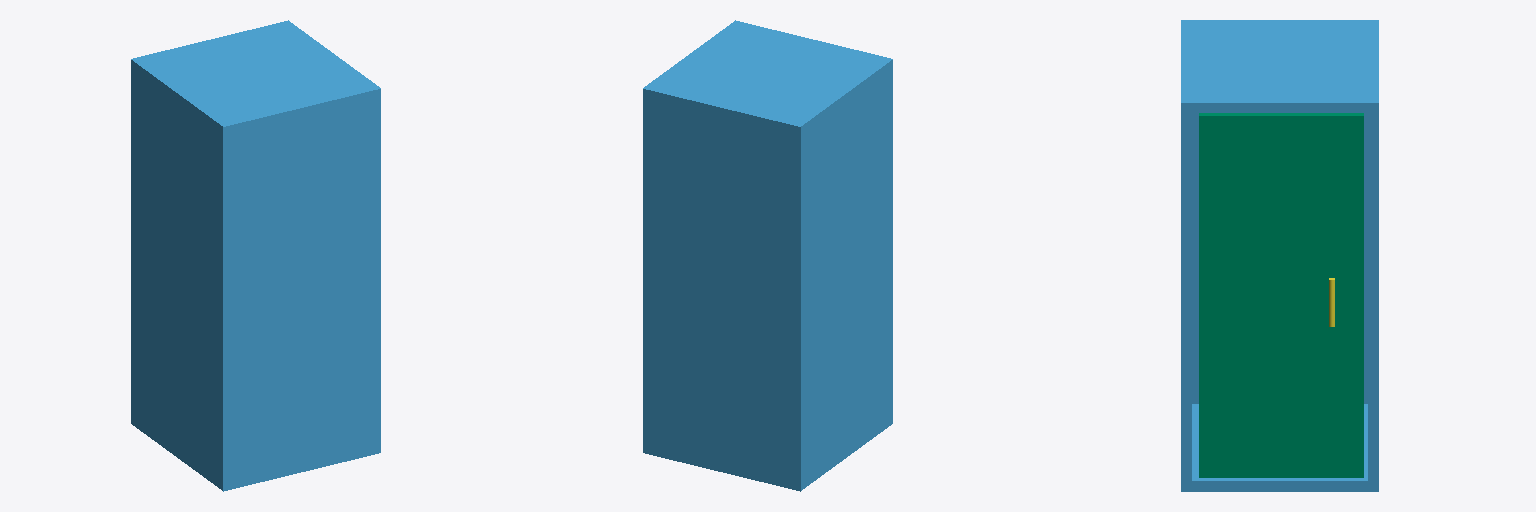
The robot description file, URDF, robot "my_cabinet":
<?xml version="1.0" ?>
<robot name="my_cabinet">
	<link name="world"/>
	<joint name="virtual_joint" type="fixed">
		<parent link="world"/>
		<child link="base_cabinet_link"/>
		<origin xyz="0.0 0.0 0.0" rpy="0.0 0.0 0.0"/>
	</joint>
	<link name="base_cabinet_link">
		<visual>
			<origin xyz="0.0 -0.0025 -0.3215849093158146" rpy="0.0 0.0 0.0"/>
			<geometry>
				<box size="0.3 0.30579102712133666 0.018"/>
			</geometry>
		</visual>
		<collision name="base_cabinet_link_collision_0">
			<origin xyz="0.0 -0.0025 -0.3215849093158146" rpy="0.0 0.0 0.0"/>
			<geometry>
				<box size="0.3 0.30579102712133666 0.018"/>
			</geometry>
		</collision>
		<visual>
			<origin xyz="0.0 0.14139551356066835 0.0" rpy="0.0 0.0 0.0"/>
			<geometry>
				<box size="0.3 0.018 0.6611698186316293"/>
			</geometry>
		</visual>
		<collision name="base_cabinet_link_collision_1">
			<origin xyz="0.0 0.14139551356066835 0.0" rpy="0.0 0.0 0.0"/>
			<geometry>
				<box size="0.3 0.018 0.6611698186316293"/>
			</geometry>
		</collision>
		<visual>
			<origin xyz="0.0 -0.14639551356066835 0.0" rpy="0.0 0.0 0.0"/>
			<geometry>
				<box size="0.3 0.018 0.6611698186316293"/>
			</geometry>
		</visual>
		<collision name="base_cabinet_link_collision_2">
			<origin xyz="0.0 -0.14639551356066835 0.0" rpy="0.0 0.0 0.0"/>
			<geometry>
				<box size="0.3 0.018 0.6611698186316293"/>
			</geometry>
		</collision>
		<visual>
			<origin xyz="0.0 -0.0025 0.3215849093158146" rpy="0.0 0.0 0.0"/>
			<geometry>
				<box size="0.3 0.30579102712133666 0.018"/>
			</geometry>
		</visual>
		<collision name="base_cabinet_link_collision_3">
			<origin xyz="0.0 -0.0025 0.3215849093158146" rpy="0.0 0.0 0.0"/>
			<geometry>
				<box size="0.3 0.30579102712133666 0.018"/>
			</geometry>
		</collision>
		<visual>
			<origin xyz="-0.141 -0.0025 0.0" rpy="0.0 0.0 0.0"/>
			<geometry>
				<box size="0.018 0.30579102712133666 0.6611698186316293"/>
			</geometry>
		</visual>
		<collision name="base_cabinet_link_collision_4">
			<origin xyz="-0.141 -0.0025 0.0" rpy="0.0 0.0 0.0"/>
			<geometry>
				<box size="0.018 0.30579102712133666 0.6611698186316293"/>
			</geometry>
		</collision>
		<inertial>
			<mass value="0.200000"/>
			<inertia ixx="0.008844" ixy="0.0" ixz="0.0" iyy="0.008786" iyz="0.0" izz="0.003058"/>
		</inertial>
	</link>
	<link name="door_link">
		<visual>
			<origin xyz="0.0 -0.12739551356066833 0.0"/>
			<geometry>
				<box size="0.018 0.25479102712133667 0.6151698186316292"/>
			</geometry>
		</visual>
		<collision name="door_link_collision">
			<origin xyz="0.0 -0.12739551356066833 0.0"/>
			<geometry>
				<box size="0.018 0.25479102712133667 0.6151698186316292"/>
			</geometry>
		</collision>
		<inertial>
			<mass value="0.200000"/>
			<inertia ixx="0.007389" ixy="0.0" ixz="0.0" iyy="0.006313" iyz="0.0" izz="0.001087"/>
		</inertial>
	</link>
	<joint name="door_joint" type="revolute">
		<origin xyz="0.141 -0.12739551356066833 0.0" rpy="0.000000 -0.000000 3.141593"/>
		<axis xyz="0 0 1"/>
		<parent link="base_cabinet_link"/>
		<child link="door_link"/>
		<limit effort="50" lower="-1.658062789394613" upper="0" velocity="10"/>
		<dynamics friction="3.5" damping="3.5"/>
	</joint>
	<link name="handle_link">
		<visual>
			<origin xyz="0.0 0.0 0.0" rpy="0.0 0.0 0.0"/>
			<geometry>
				<cylinder length="0.08" radius="0.005"/>
			</geometry>
		</visual>
		<collision name="handle_link_collision_0">
			<origin xyz="0.0 0.0 0.0" rpy="0.0 0.0 0.0"/>
			<geometry>
				<cylinder length="0.08" radius="0.005"/>
			</geometry>
		</collision>
		<visual>
			<origin xyz="-0.01 0.0 0.02" rpy="0.0 1.5707963267948966 0.0"/>
			<geometry>
				<cylinder length="0.02" radius="0.003"/>
			</geometry>
		</visual>
		<collision name="handle_link_collision_1">
			<origin xyz="-0.01 0.0 0.02" rpy="0.0 1.5707963267948966 0.0"/>
			<geometry>
				<cylinder length="0.01" radius="0.003"/>
			</geometry>
		</collision>
		<visual>
			<origin xyz="-0.01 0.0 -0.02" rpy="0.0 1.5707963267948966 0.0"/>
			<geometry>
				<cylinder length="0.02" radius="0.003"/>
			</geometry>
		</visual>
		<collision name="handle_link_collision_2">
			<origin xyz="-0.01 0.0 -0.02" rpy="0.0 1.5707963267948966 0.0"/>
			<geometry>
				<cylinder length="0.02" radius="0.003"/>
			</geometry>
		</collision>
		<inertial>
			<mass value="0.050000"/>
			<inertia ixx="0.000027" ixy="0.0" ixz="0.0" iyy="0.000029" iyz="0.0" izz="0.000003"/>
		</inertial>
	</link>
	<joint name="handle_joint" type="fixed">
		<origin xyz="-0.028999999999999998 -0.20479102712133668 0.0" rpy="0.000000 -0.000000 3.141593"/>
		<parent link="door_link"/>
		<child link="handle_link"/>
	</joint>
	<gazebo reference="base_cabinet_link">
		<sensor name="main_sensor" type="contact">
			<selfCollide>true</selfCollide>
			<alwaysOn>true</alwaysOn>
			<updateRate>5.0</updateRate>
			<material>Gazebo/Red</material>
			<contact>
				<collision>base_cabinet_link_collision_0_collision</collision>
				<collision>base_cabinet_link_collision_1_collision</collision>
				<collision>base_cabinet_link_collision_2_collision</collision>
				<collision>base_cabinet_link_collision_3_collision</collision>
				<collision>base_cabinet_link_collision_4_collision</collision>
			</contact>
			<plugin name="gazebo_ros_bumper_controller" filename="libgazebo_ros_bumper.so">
				<bumperTopicName>/contact</bumperTopicName>
				<frameName>world</frameName>
			</plugin>
		</sensor>
	</gazebo>
	<gazebo reference="door_link">
		<sensor name="main_sensor" type="contact">
			<selfCollide>true</selfCollide>
			<alwaysOn>true</alwaysOn>
			<updateRate>5.0</updateRate>
			<material>Gazebo/Red</material>
			<contact>
				<collision>door_link_collision_collision</collision>
			</contact>
			<plugin name="gazebo_ros_bumper_controller" filename="libgazebo_ros_bumper.so">
				<bumperTopicName>/contact_door</bumperTopicName>
				<frameName>contact_door</frameName>
			</plugin>
		</sensor>
	</gazebo>
	<gazebo reference="door_link">
		<mu>3.0</mu>
		<mu2>3.0</mu2>
		<kp>10000000</kp>
		<kd>100</kd>
	</gazebo>
</robot>

--- Render facts (derived) ---
3 views of the same robot in one strip: view 1: azimuth 30°, elevation 25°; view 2: azimuth 150°, elevation 25°; view 3: azimuth 270°, elevation 25° (orthographic).
Model my_cabinet with 4 links and 3 joints (1 revolute, 2 fixed), rooted at world, posed all joints at 0.
Visible links, largest first — view 1: base_cabinet_link; view 2: base_cabinet_link; view 3: door_link, base_cabinet_link.
Boxes of the visible links, bbox=[...] form: base_cabinet_link: bbox=[131, 20, 380, 491]; base_cabinet_link: bbox=[643, 20, 892, 491]; door_link: bbox=[1199, 113, 1363, 477]; base_cabinet_link: bbox=[1181, 20, 1378, 491].
Size in the robot's own frame: 0.325 by 0.3058 by 0.6612 metres.
Geometry: primitives only (box / cylinder / sphere), no mesh files.
